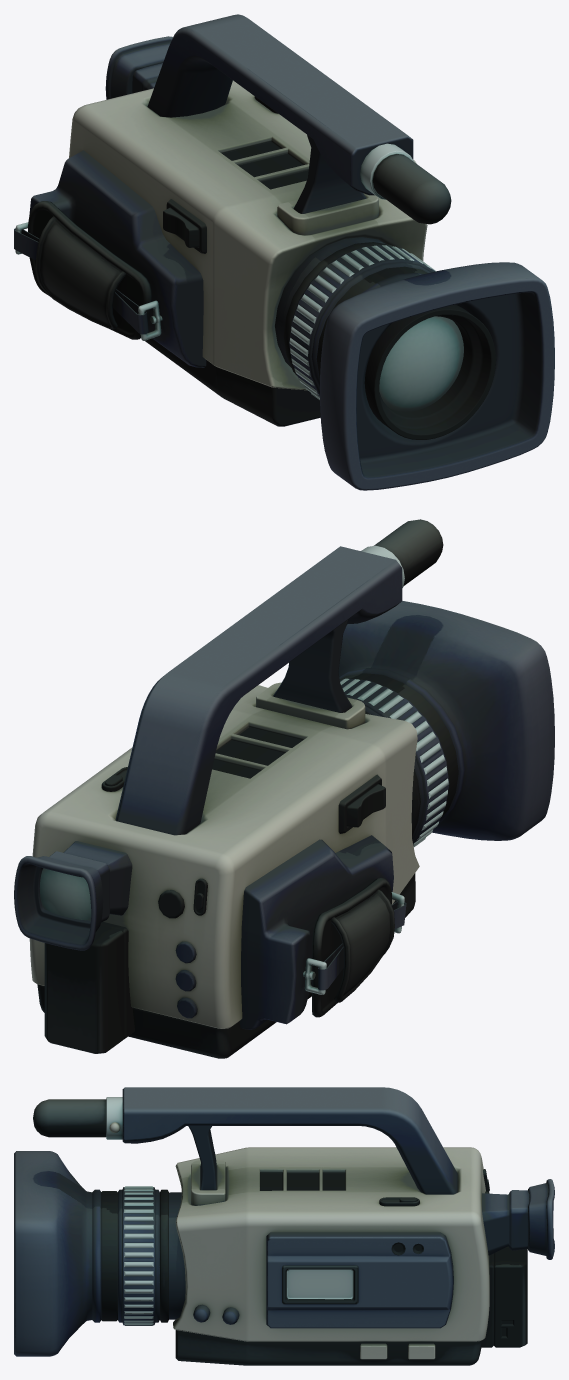
The model's file is video_cam.gltf.
The picture shows the model from 3 angles, top to bottom: view 1: azimuth 30°, elevation 25°; view 2: azimuth 150°, elevation 25°; view 3: azimuth 270°, elevation 25°; orthographic projection. The views are drawn at different scales.
Parts seen in each view (by area): view 1: video_camera.1; view 2: video_camera.1; view 3: video_camera.1.
Part boxes in pixels (bbox=[...]): video_camera.1: bbox=[14, 14, 554, 490]; video_camera.1: bbox=[14, 519, 554, 1058]; video_camera.1: bbox=[14, 1087, 554, 1365].
Size of the model in its own units: 0.3005 by 0.3105 by 0.6355.
1 material, 1 textured.
